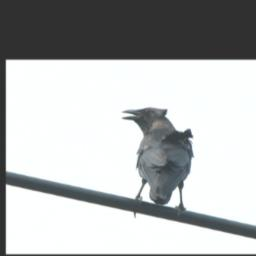Crow: (121, 104, 194, 220)
